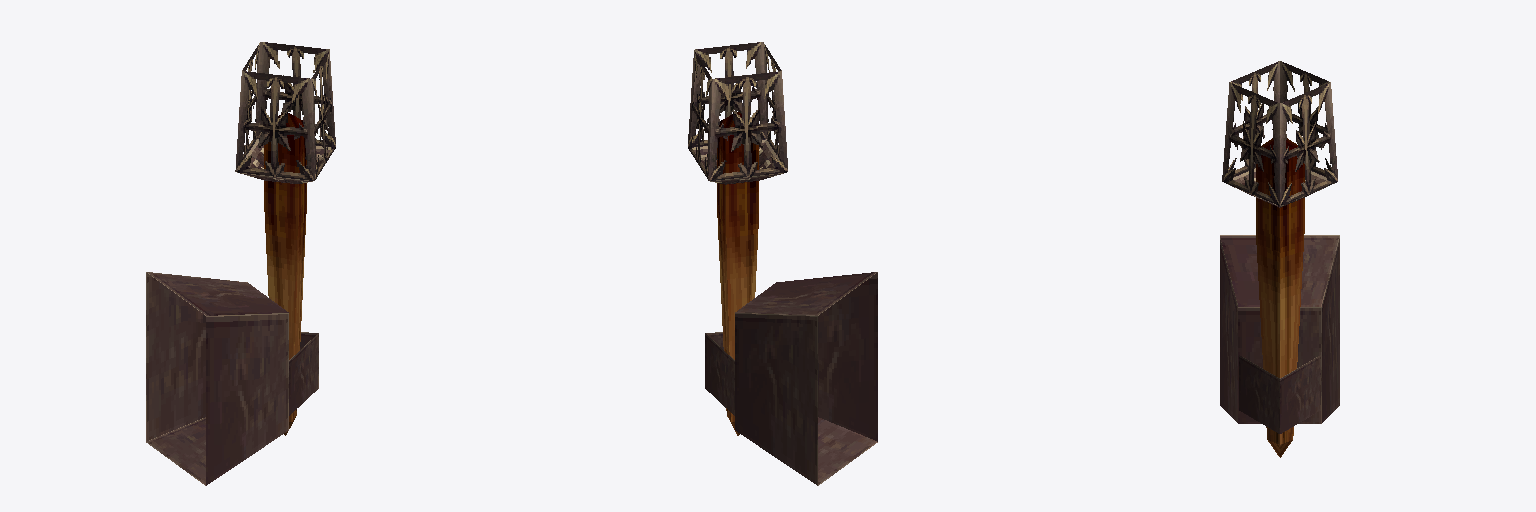
The picture shows the model from 3 angles: view 1: azimuth 30°, elevation 25°; view 2: azimuth 150°, elevation 25°; view 3: azimuth 270°, elevation 25°; orthographic projection.
Visible parts, largest first — view 1: object 1; view 2: object 1; view 3: object 1.
Part boxes in pixels (x1,y1,x2,y2): object 1: (146,42,335,485); object 1: (688,42,877,485); object 1: (1220,61,1339,457).
Bounding box in the file's own units: 0.4997 × 1.12 × 0.3254.
Materials: 1 (1 with a texture image).